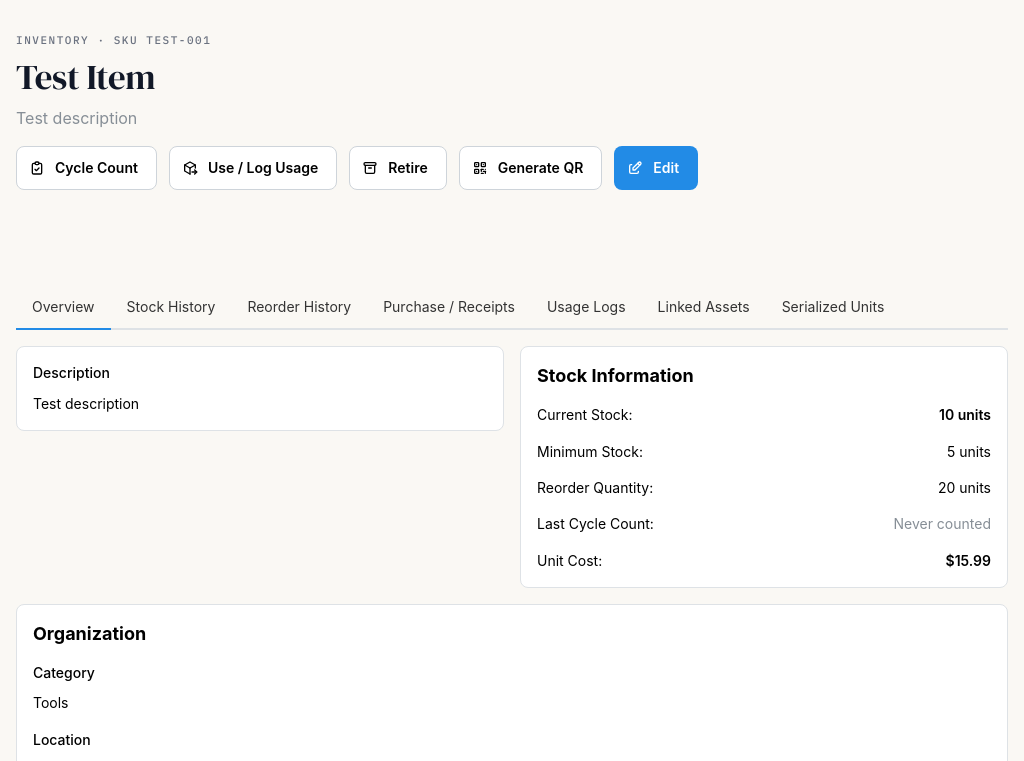
Scenario: InventoryItemDetailPage — log usage › opens the Use / Log Usage modal with its form controls
Expected: the heading "Test Item" is shown, x1=16 y1=53 x2=155 y2=101
What coordinates should you click on to do the following:
click the button with test id "log-usage-button"
I would click on:
 (253, 168)
Its box is x1=169 y1=146 x2=337 y2=190.
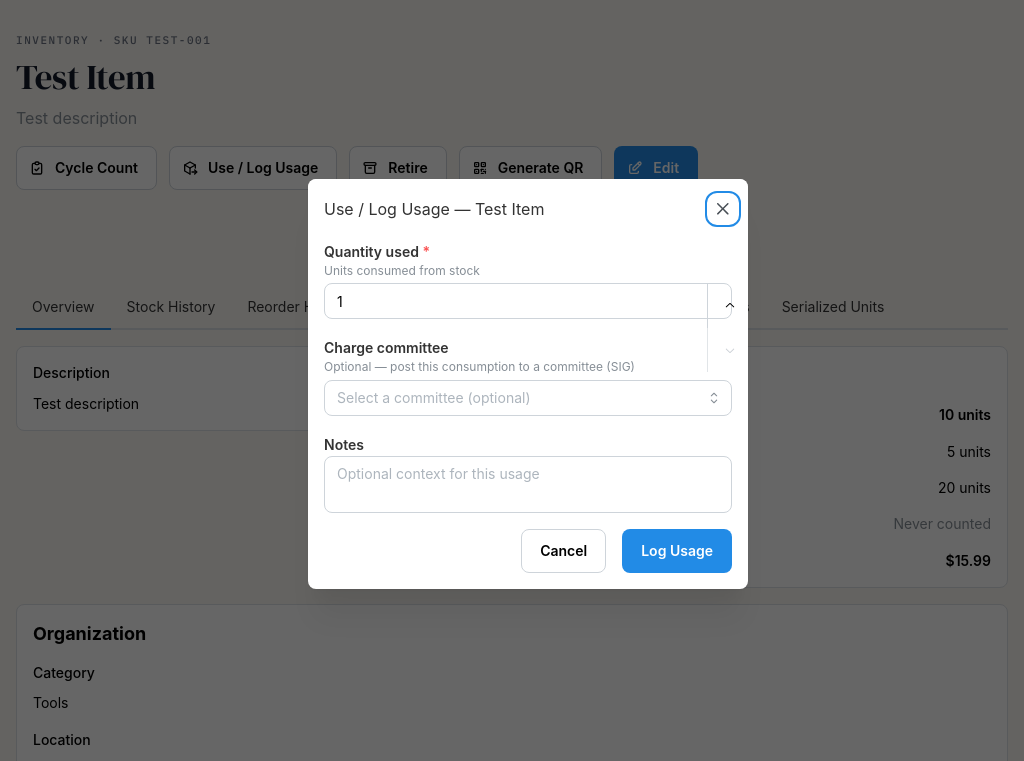
Now the button with test id "log-usage-submit" is shown, box x1=622 y1=529 x2=732 y2=573
Now the field with test id "log-usage-qty" is shown, box x1=324 y1=283 x2=732 y2=319
Now the dropdown with test id "log-usage-committee" is shown, box x1=324 y1=380 x2=732 y2=416
